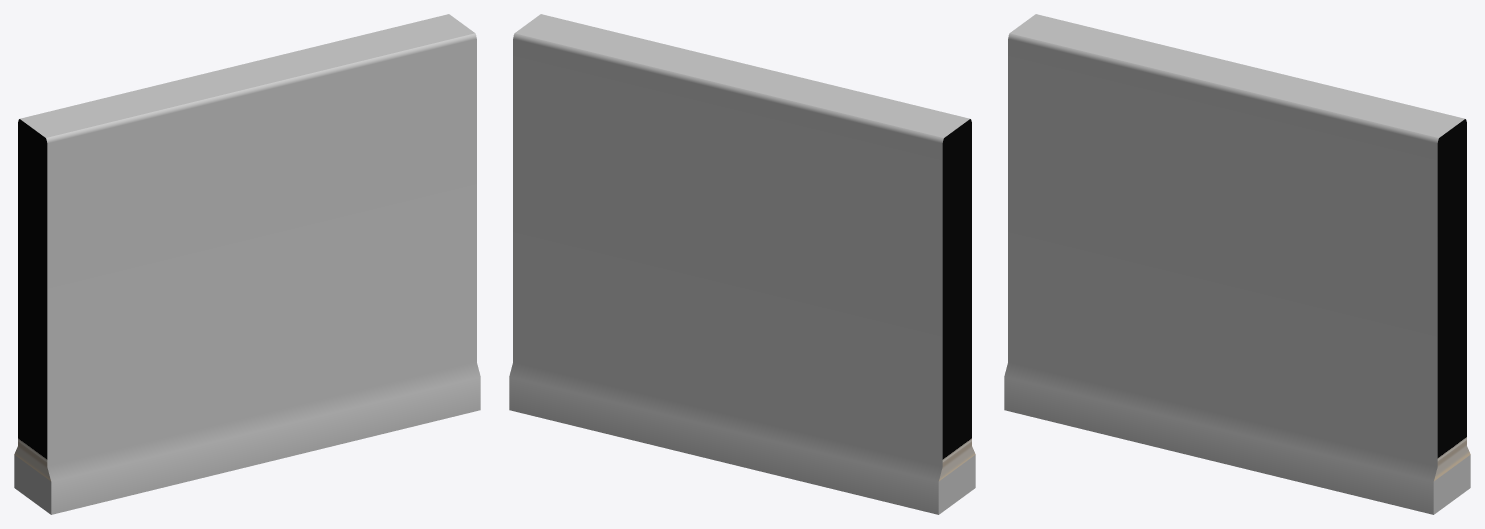
The model's file is wall-single-mat-mesh.fbx.
3 renders of one model, left to right at view 1: azimuth 30°, elevation 25°; view 2: azimuth 150°, elevation 25°; view 3: azimuth 330°, elevation 25°, orthographic.
Parts seen in each view (by area): view 1: pCube12; view 2: pCube12; view 3: pCube12.
Boxes of the visible parts, x1,y1,x2,y2 form: pCube12: (14, 14, 480, 514); pCube12: (509, 14, 975, 514); pCube12: (1004, 14, 1470, 514).
Size of the model in its own units: 4 by 3.32 by 0.5956.
